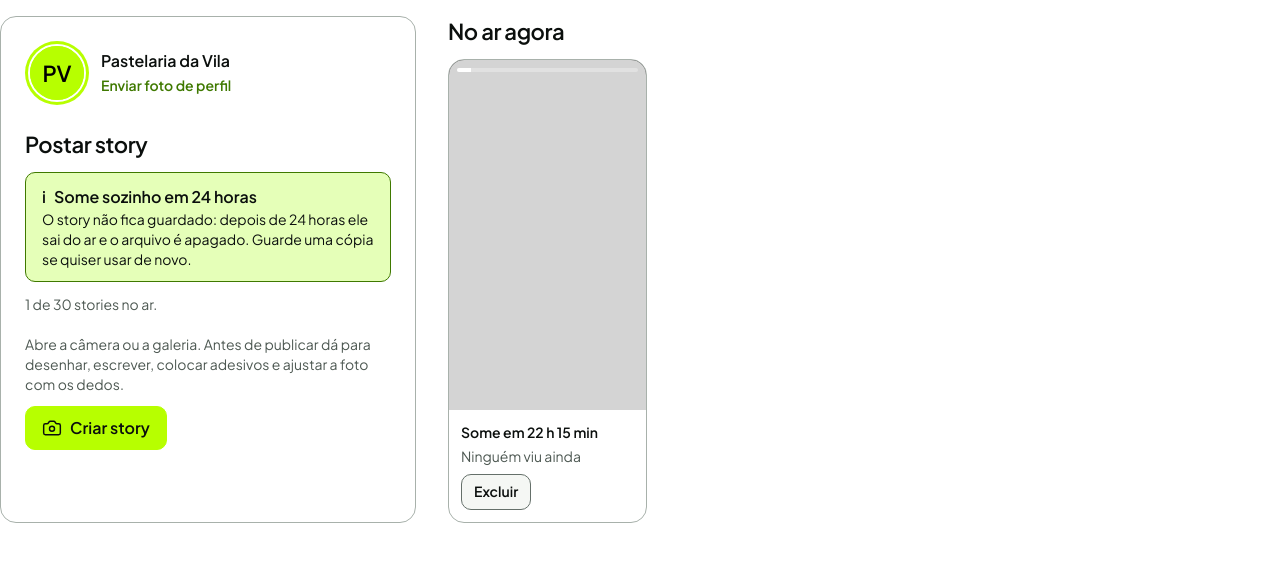
a tela de stories do painel › excluir pede confirmação e apaga pela rota do story
This screenshot has width=1280, height=584.
Click the button "Excluir" at [496, 492], box [461, 474, 531, 510]
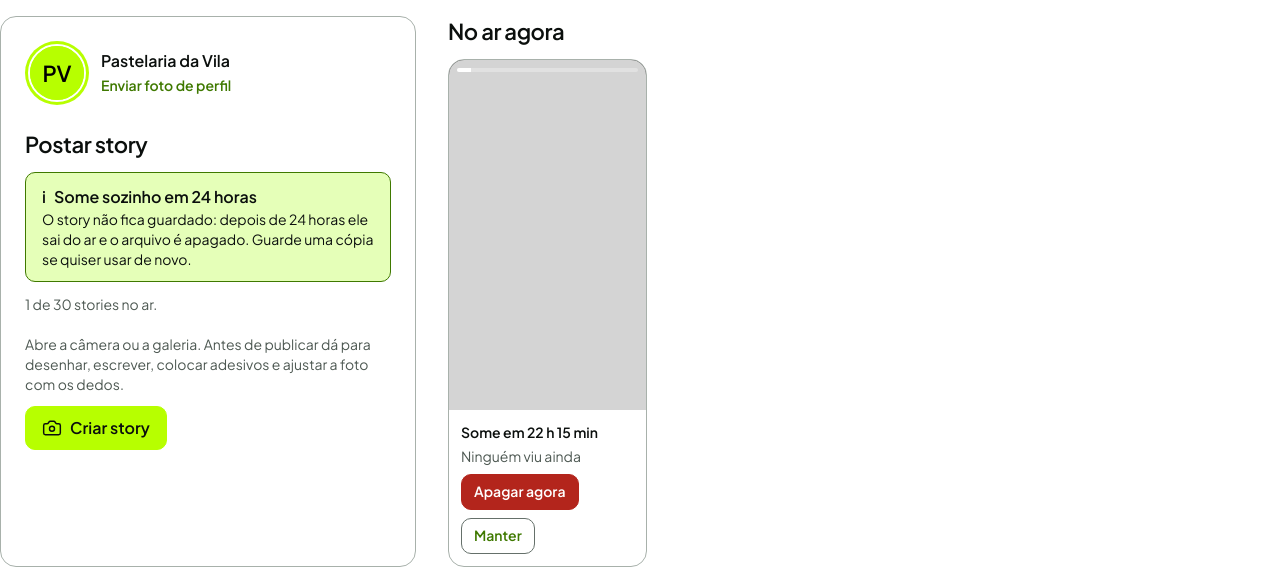
Click the button "Apagar agora" at [520, 492], box [461, 474, 578, 510]
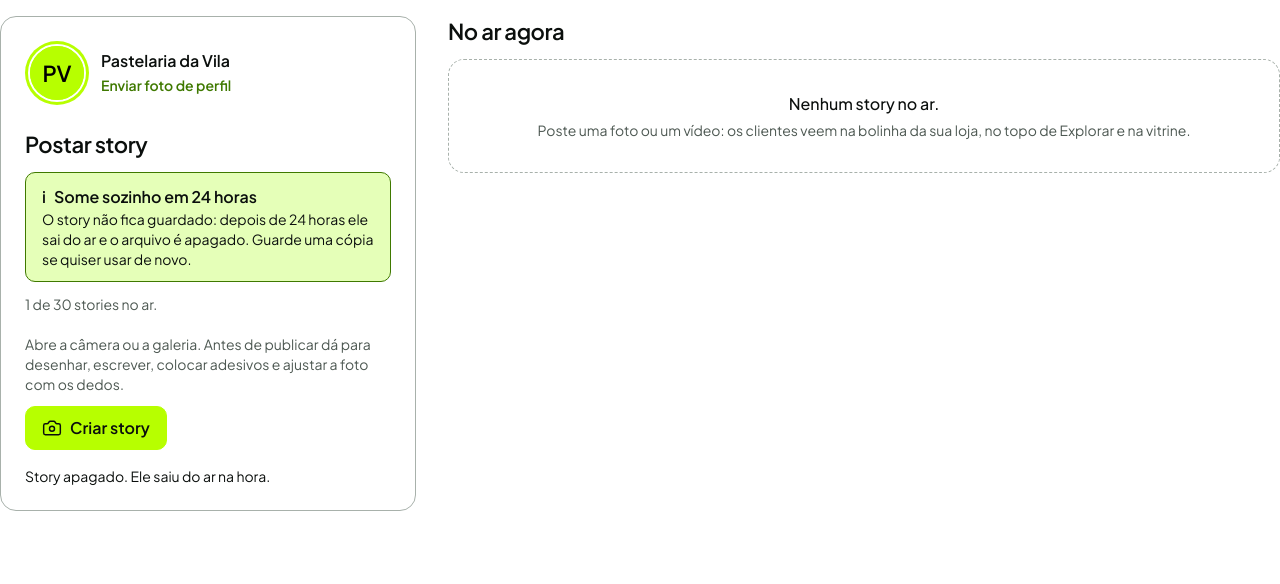
Expected: the text "Story apagado." is shown, [25, 467, 270, 485]
Expected: the text "Nenhum story no ar." is shown, [789, 93, 939, 114]
